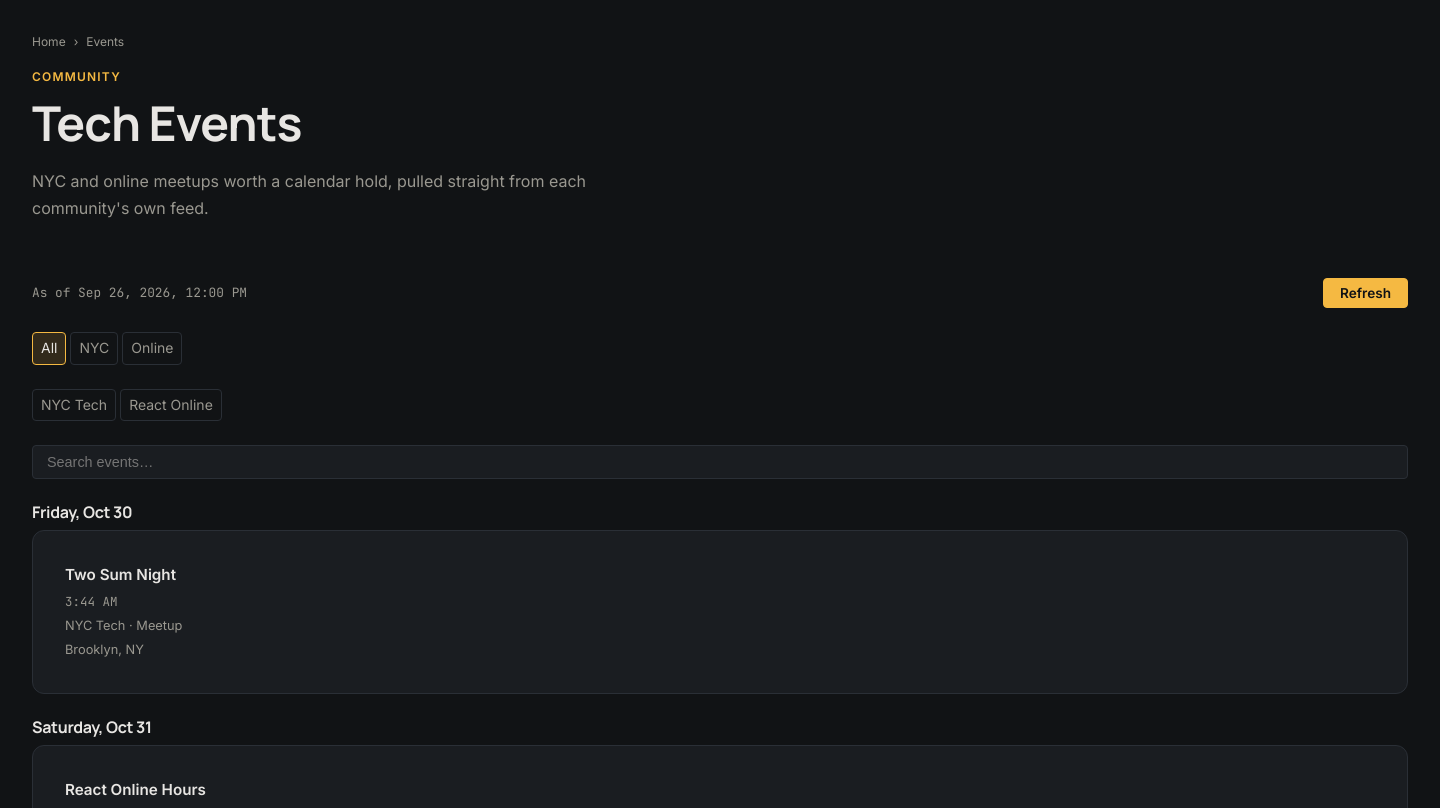
Test: EventsPageComponent › a failed Refresh keeps the cards on screen AND shows a non-blocking notice
Step 1. Click the button with class "events-btn--primary" → (1366,293), box [1323,278,1408,308]
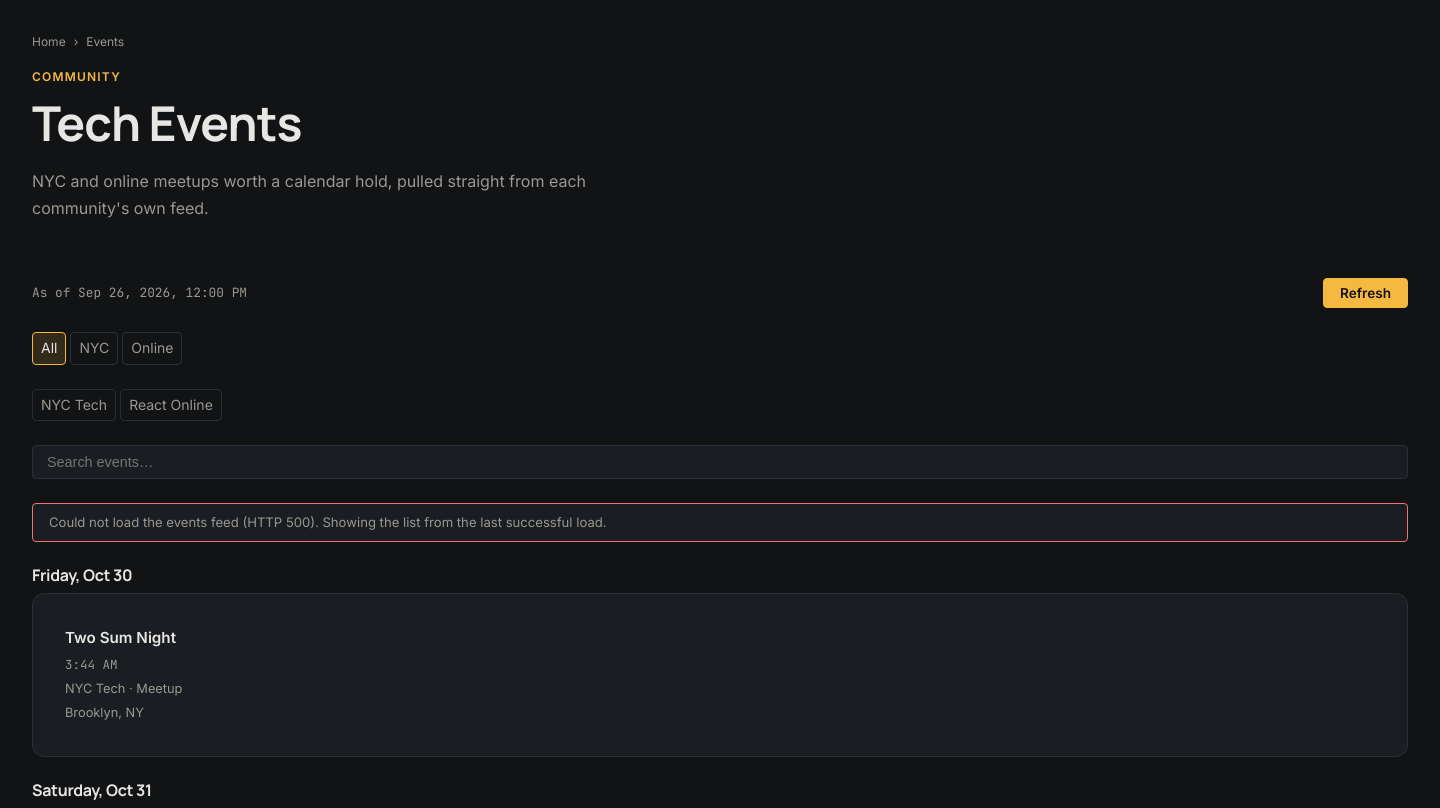
Now the message is shown, box [32,503,1408,542]
Now the message shows "Could not load the events feed (HTTP 500).", box [49,514,607,530]
